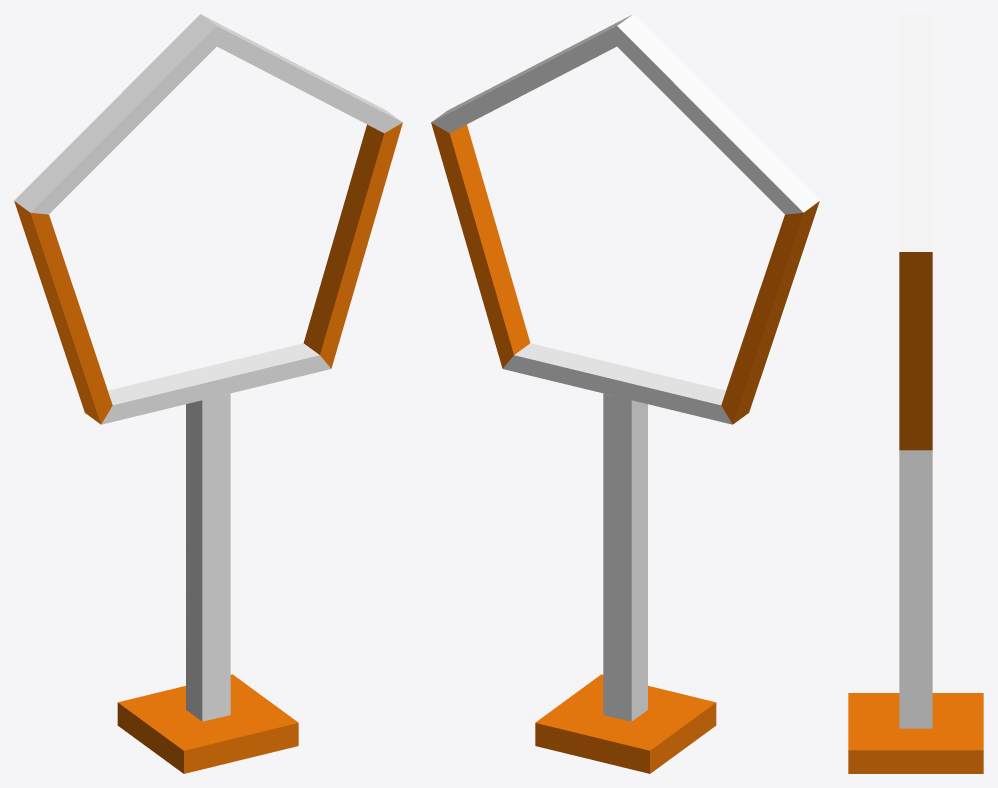
Rendered from CircleJumpB.fbx.
3 views of the same model, side by side, from view 1: azimuth 30°, elevation 25°; view 2: azimuth 150°, elevation 25°; view 3: azimuth 270°, elevation 25° (orthographic). The views are drawn at different scales.
Visible parts, largest first — view 1: CircleJumpBeam, CircleJumpB, CJ, CJ3, CJ4, CJ1, CJ2; view 2: CircleJumpBeam, CircleJumpB, CJ, CJ3, CJ4, CJ1, CJ2; view 3: CircleJumpB, CircleJumpBeam, CJ2, CJ3.
Boxes of the visible parts, <box> form: CircleJumpBeam: <box>186,393,230,721</box>; CircleJumpB: <box>117,674,298,773</box>; CJ: <box>14,14,216,214</box>; CJ3: <box>303,122,402,368</box>; CJ4: <box>101,343,330,424</box>; CJ1: <box>14,201,112,424</box>; CJ2: <box>202,15,402,133</box>; CircleJumpBeam: <box>603,393,647,721</box>; CircleJumpB: <box>535,674,716,773</box>; CJ: <box>617,14,819,214</box>; CJ3: <box>431,122,530,368</box>; CJ4: <box>503,343,732,424</box>; CJ1: <box>721,201,819,424</box>; CJ2: <box>431,15,631,133</box>; CircleJumpB: <box>848,693,983,773</box>; CircleJumpBeam: <box>899,450,932,728</box>; CJ2: <box>899,14,932,251</box>; CJ3: <box>899,252,932,450</box>.
Size of the model in its own units: 339 by 623 by 104.
Materials: 1 (1 with a texture image).
